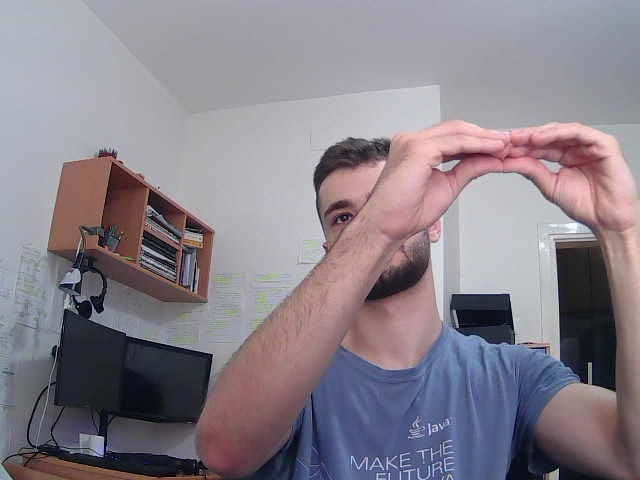b: (371, 117, 639, 230)
